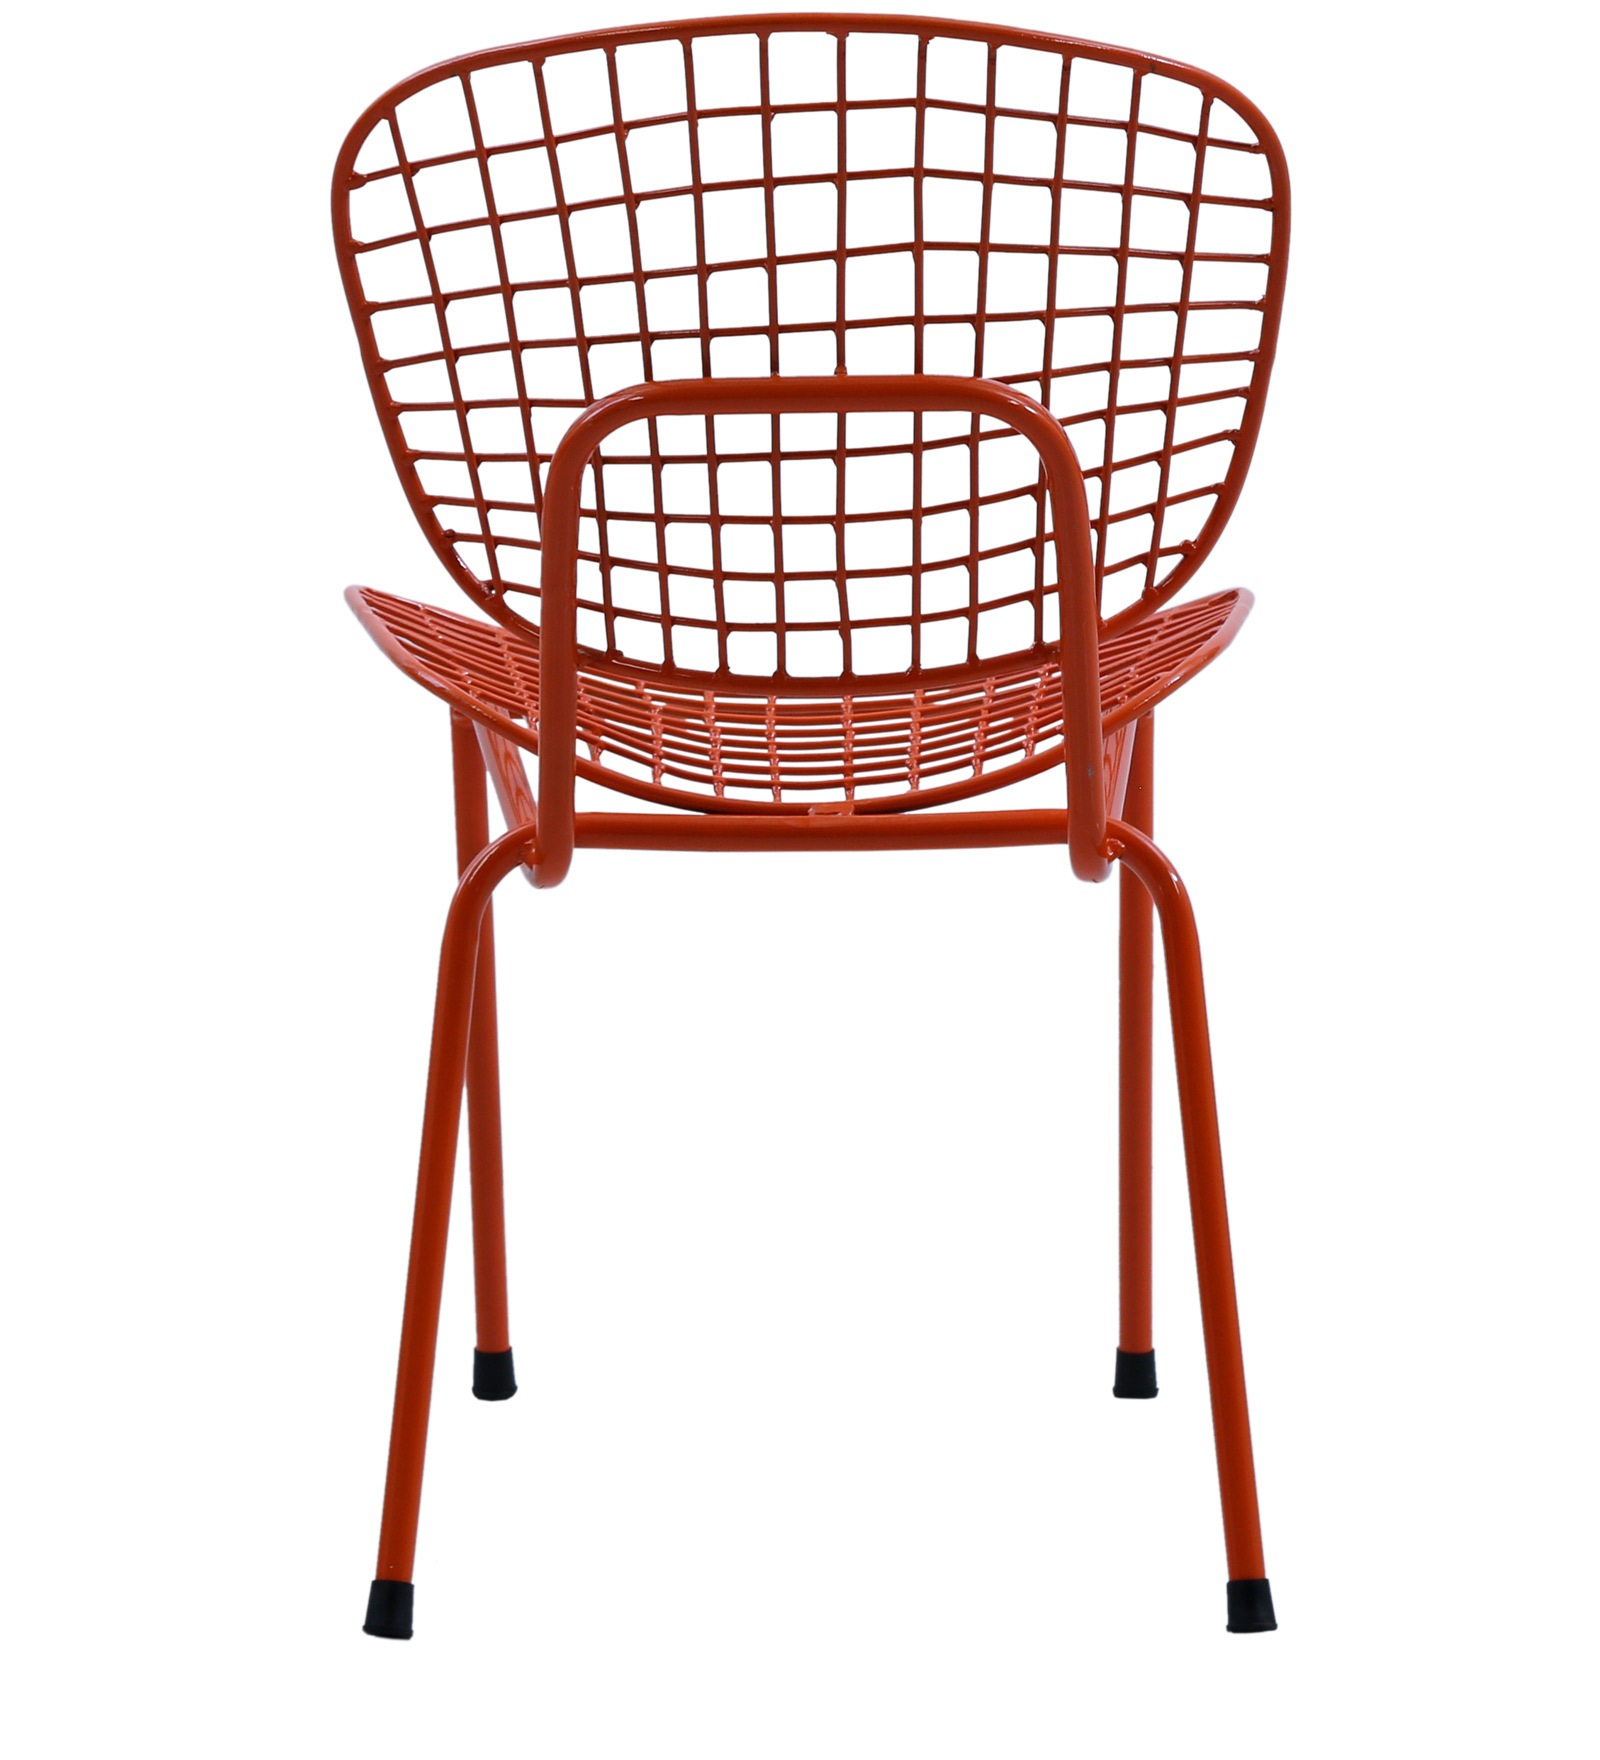Annette Metal Chair in Orange Color by Bohemiana: (208, 9, 1359, 1685)
